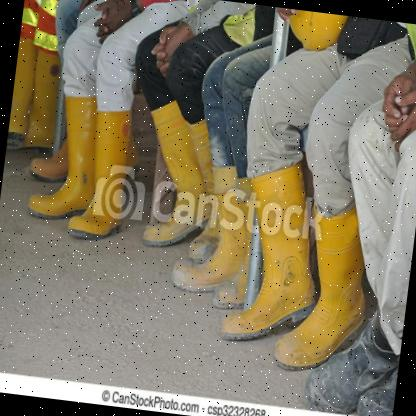bota: (298, 350, 370, 416)
